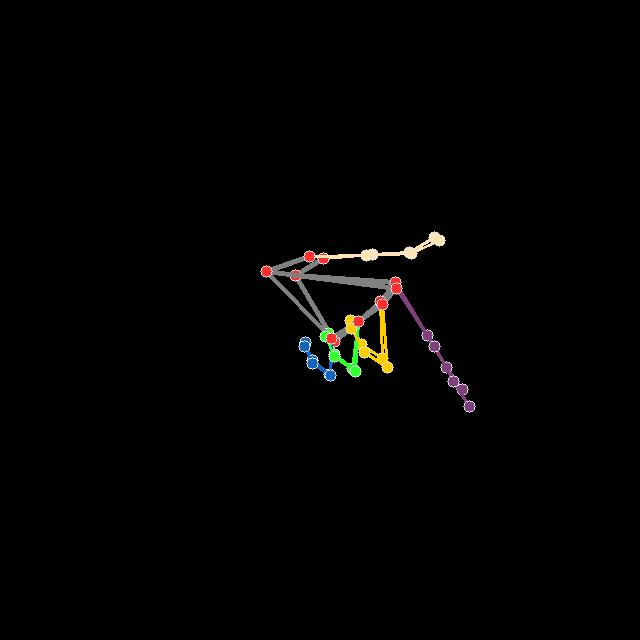gun: (256, 229, 485, 416)
